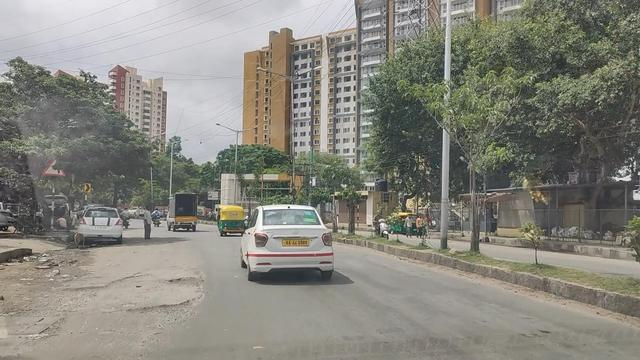LMV: (238, 202, 338, 284)
RoadDamages: (35, 269, 201, 349)
